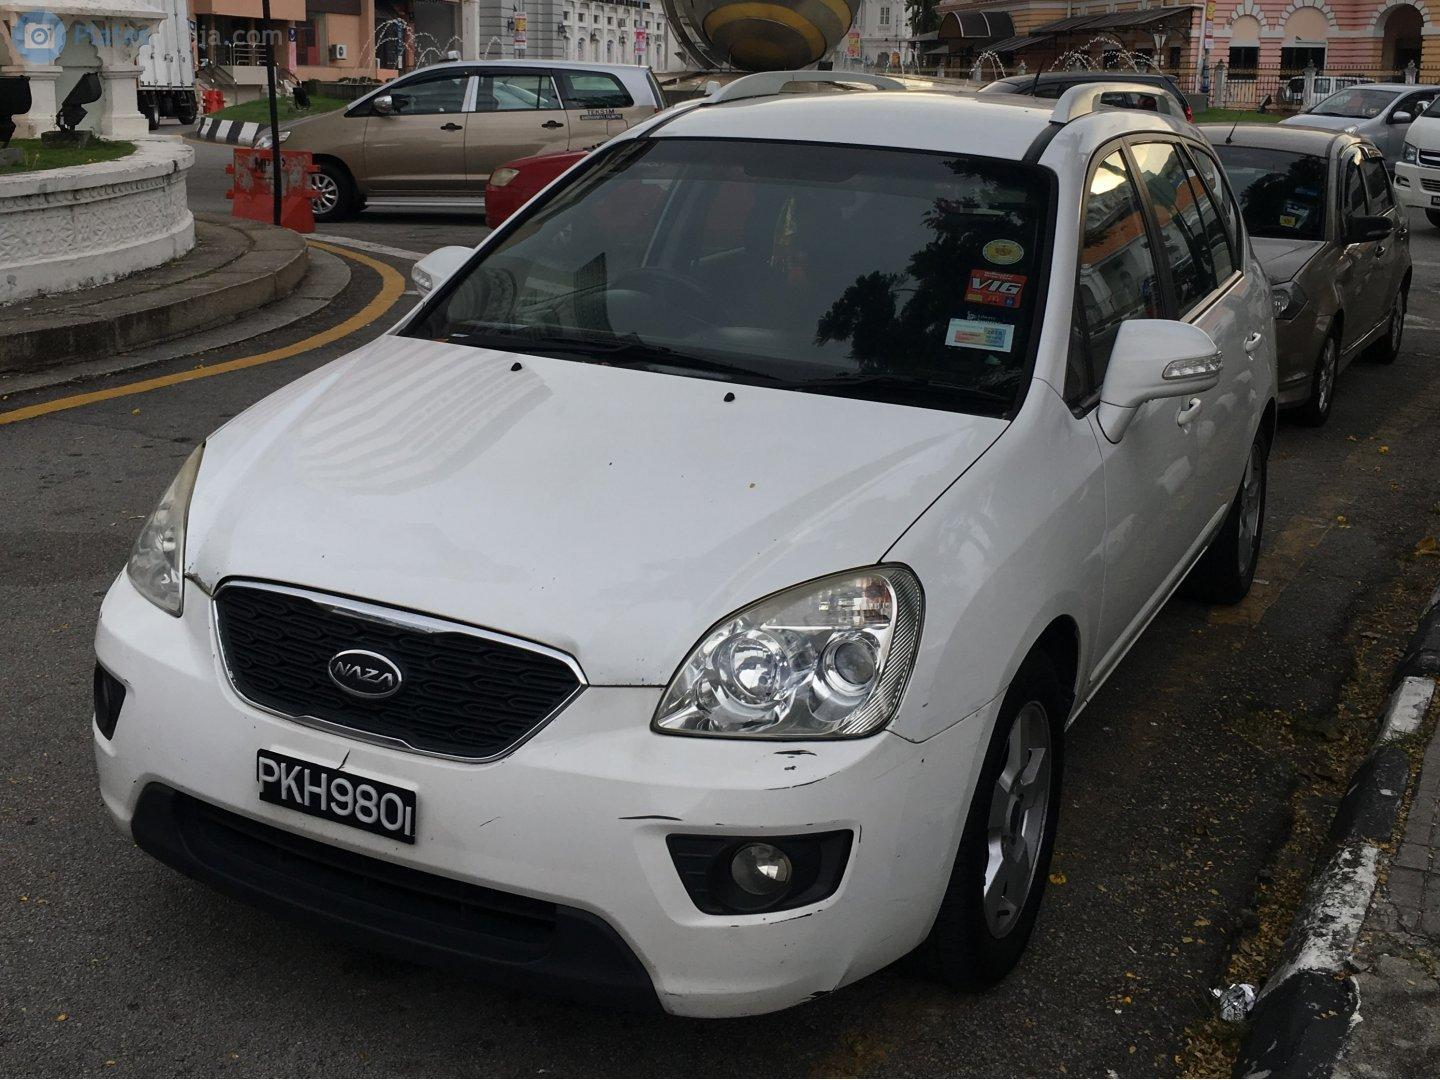License Plate: (257, 748, 422, 848)
